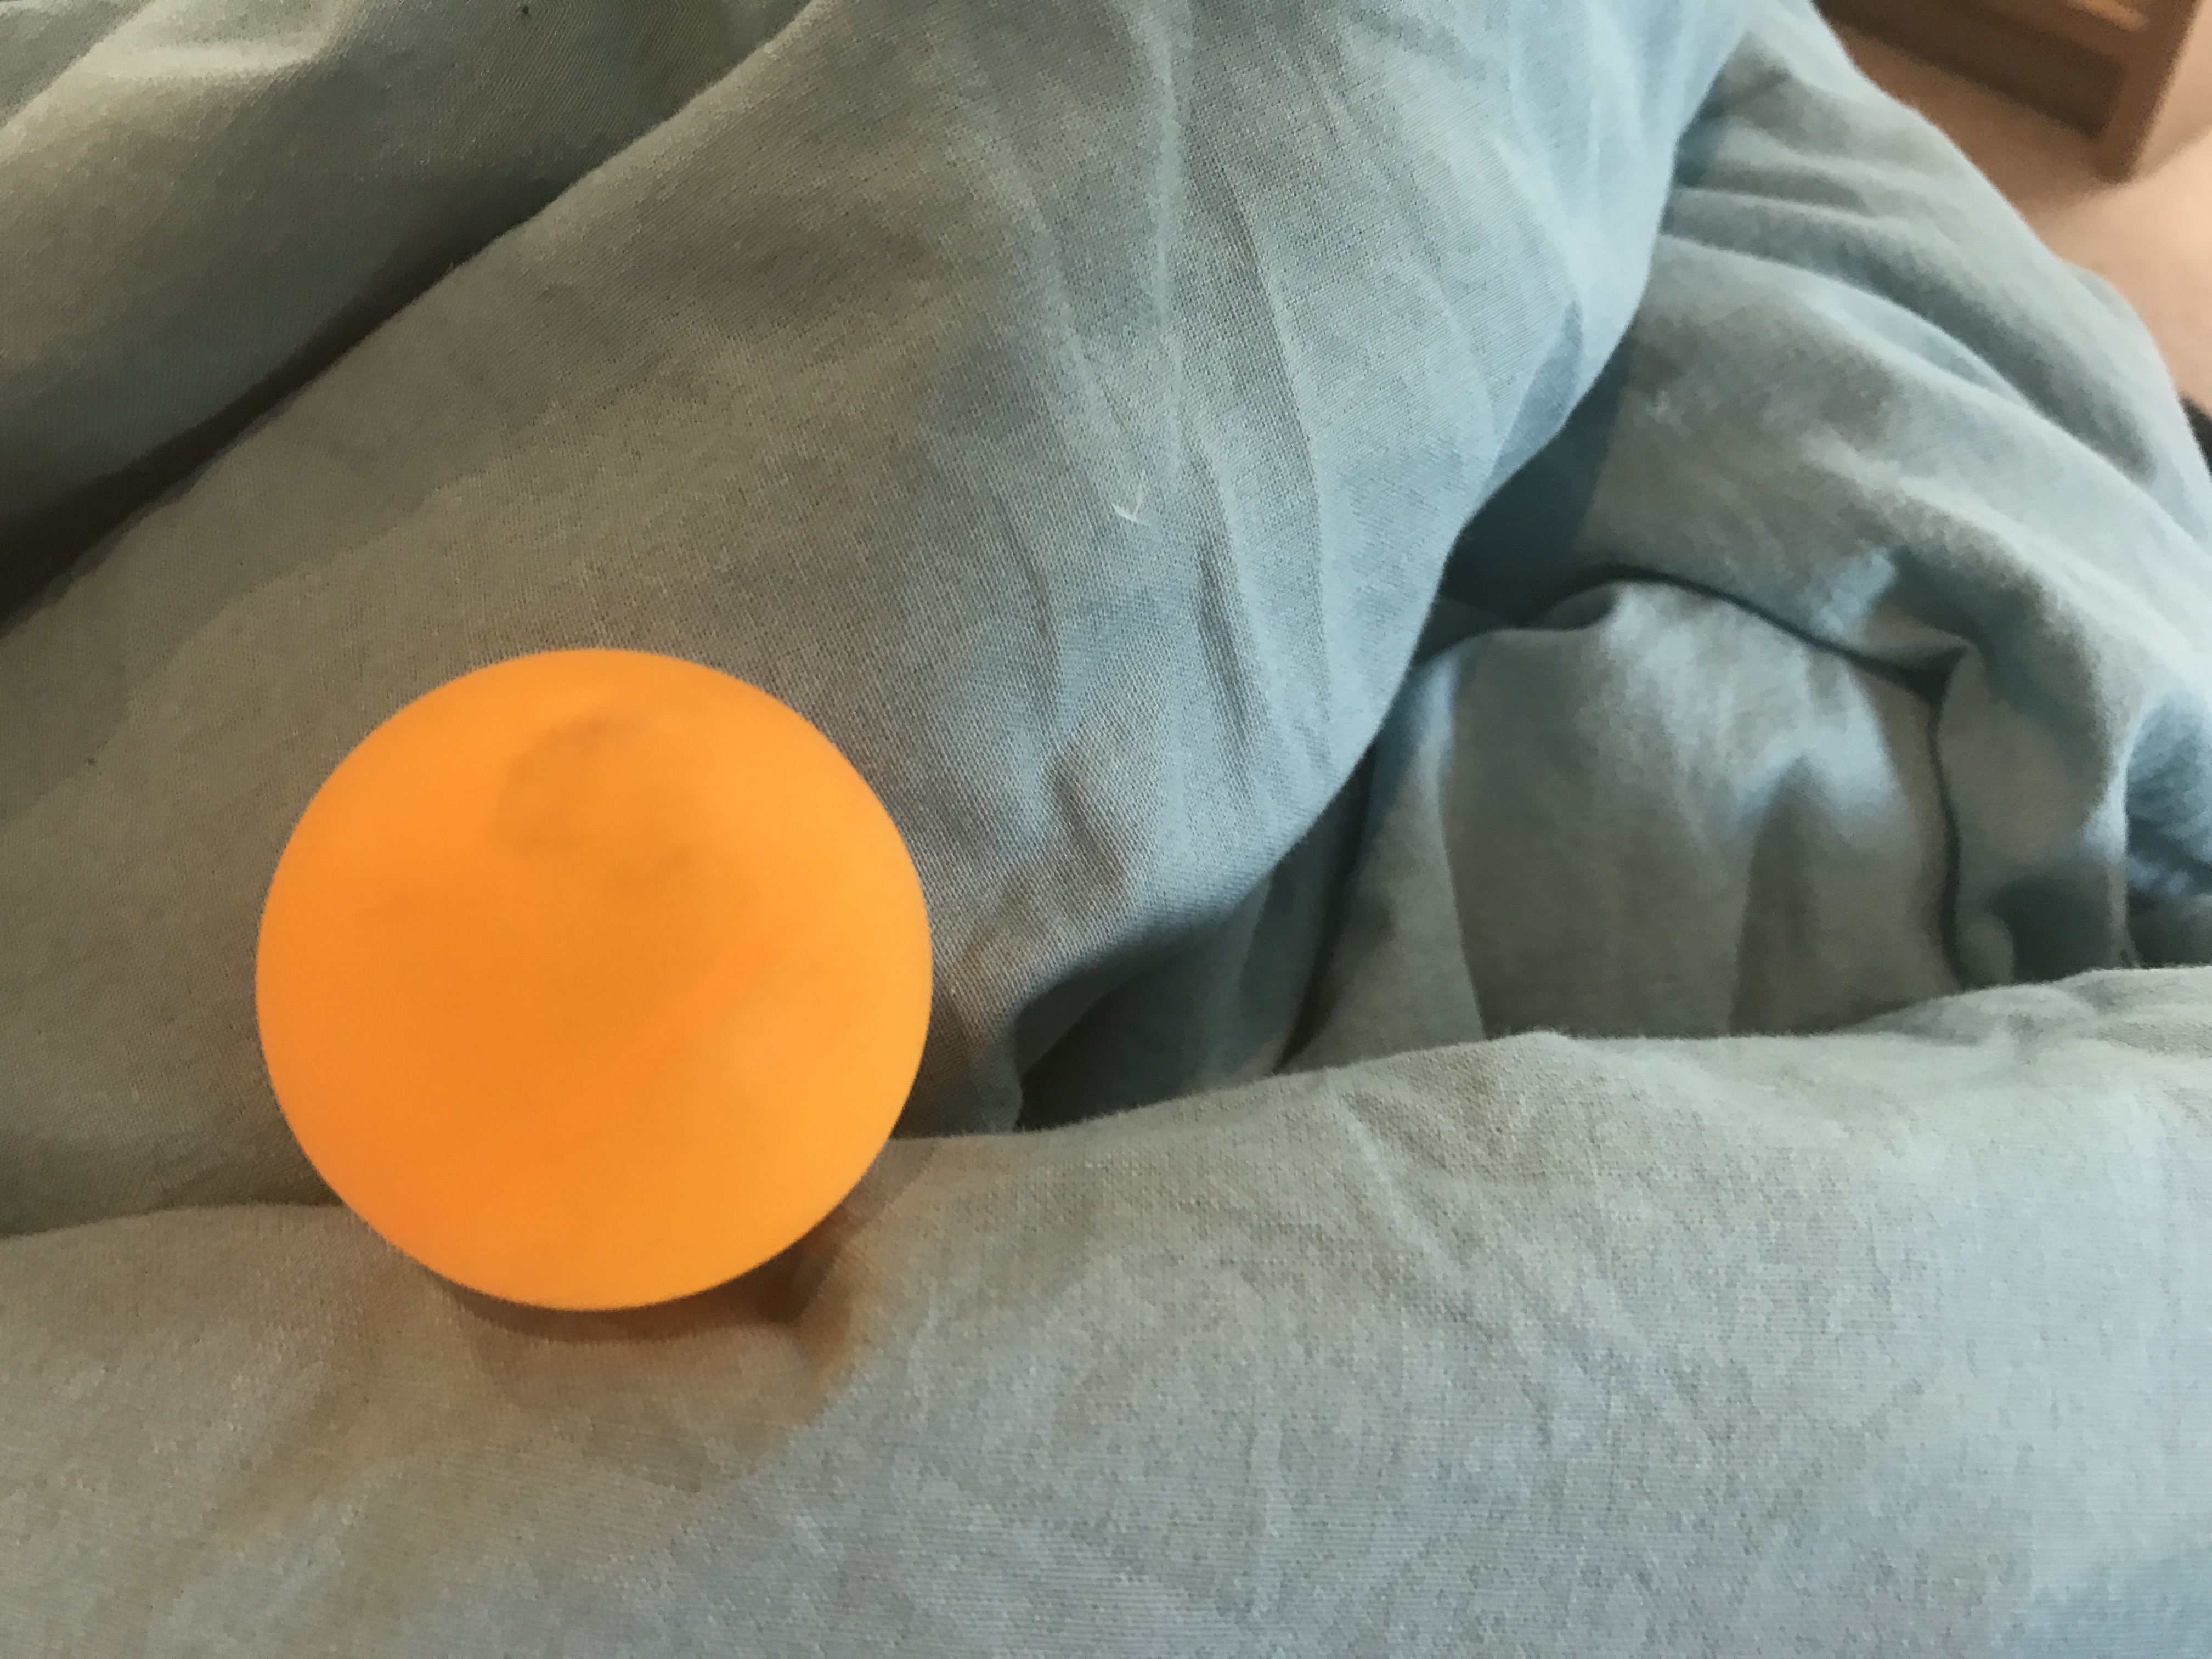pp: (251, 643, 939, 1312)
